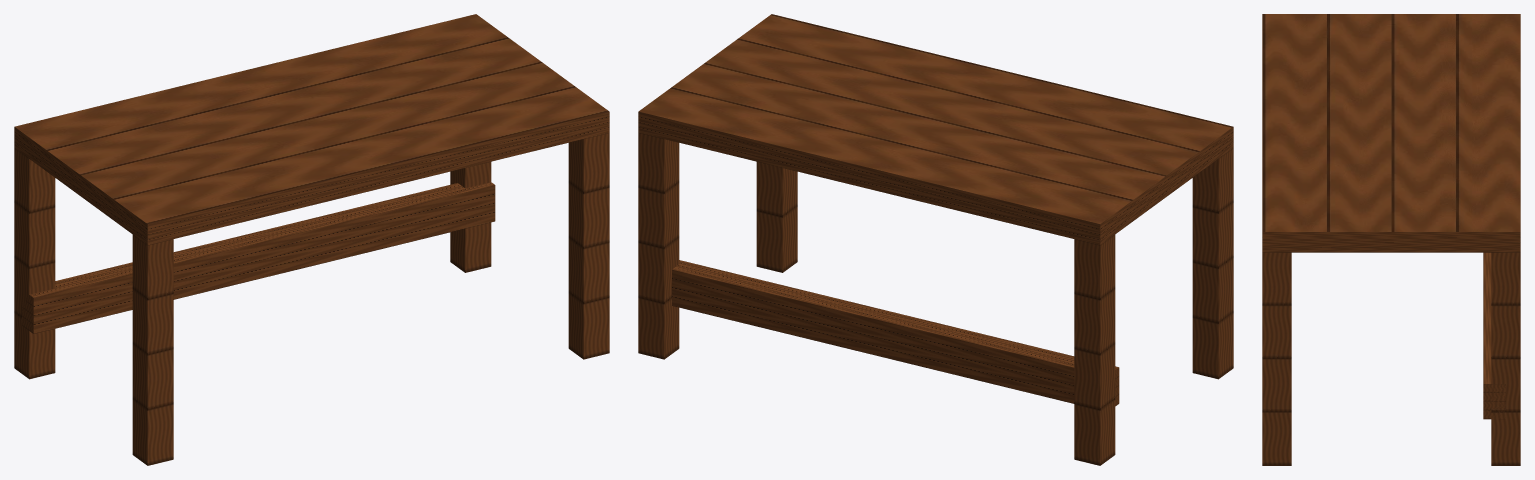
The model's file is prehistoric-survivor-settlement-hide-working-table-daf4aa28__23208.glb.
The picture shows the model from 3 angles, left to right: view 1: azimuth 30°, elevation 25°; view 2: azimuth 150°, elevation 25°; view 3: azimuth 270°, elevation 25°; orthographic projection. The views are drawn at different scales.
Visible parts, largest first — view 1: hide-working-table; view 2: hide-working-table; view 3: hide-working-table.
Part boxes in pixels (x1=…): hide-working-table: x1=14, y1=14, x2=609, y2=465; hide-working-table: x1=638, y1=14, x2=1233, y2=465; hide-working-table: x1=1262, y1=14, x2=1520, y2=465.
Bounding box in the file's own units: 1.6 × 0.8001 × 0.8001.
1 material, 1 textured.
